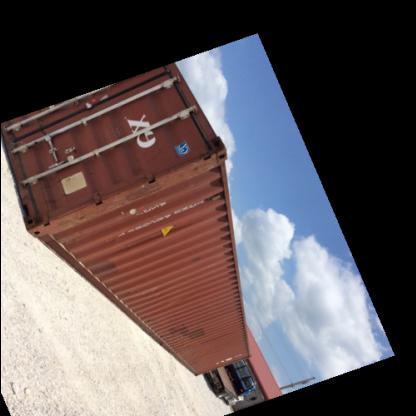Damage: (54, 188, 143, 230), (145, 152, 225, 198), (136, 282, 160, 304)
